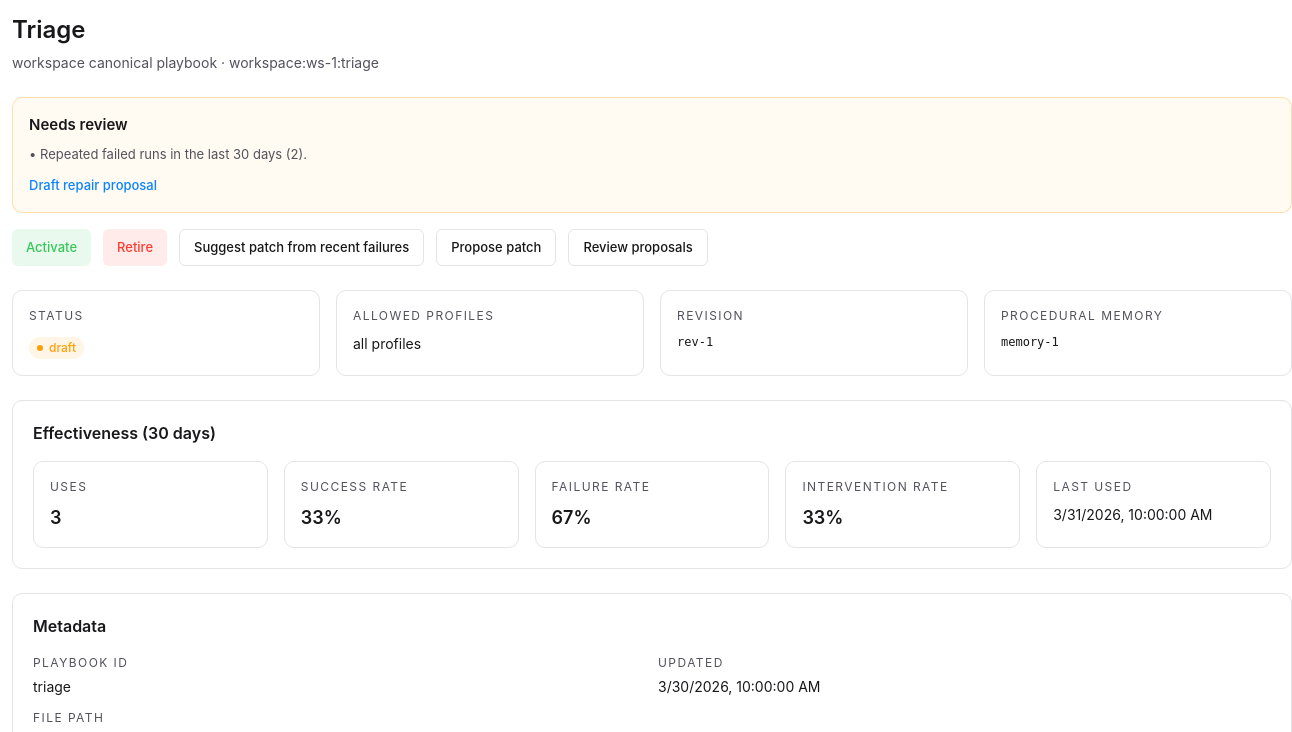
Test case: PlaybookDetailView › shows action errors when lifecycle updates fail
Click the button "Activate": (52, 247) [12,228,91,266]
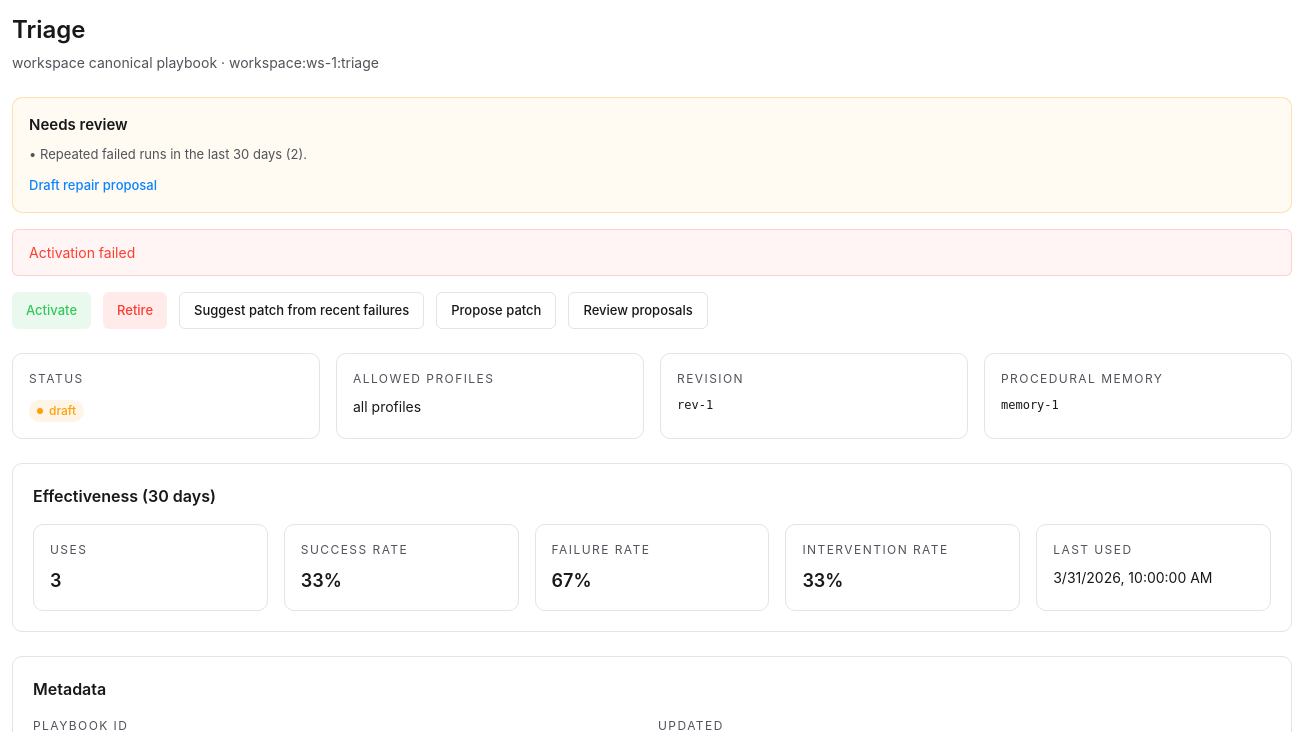
Result: the text "Activation failed" is shown at [29,244,135,260]
